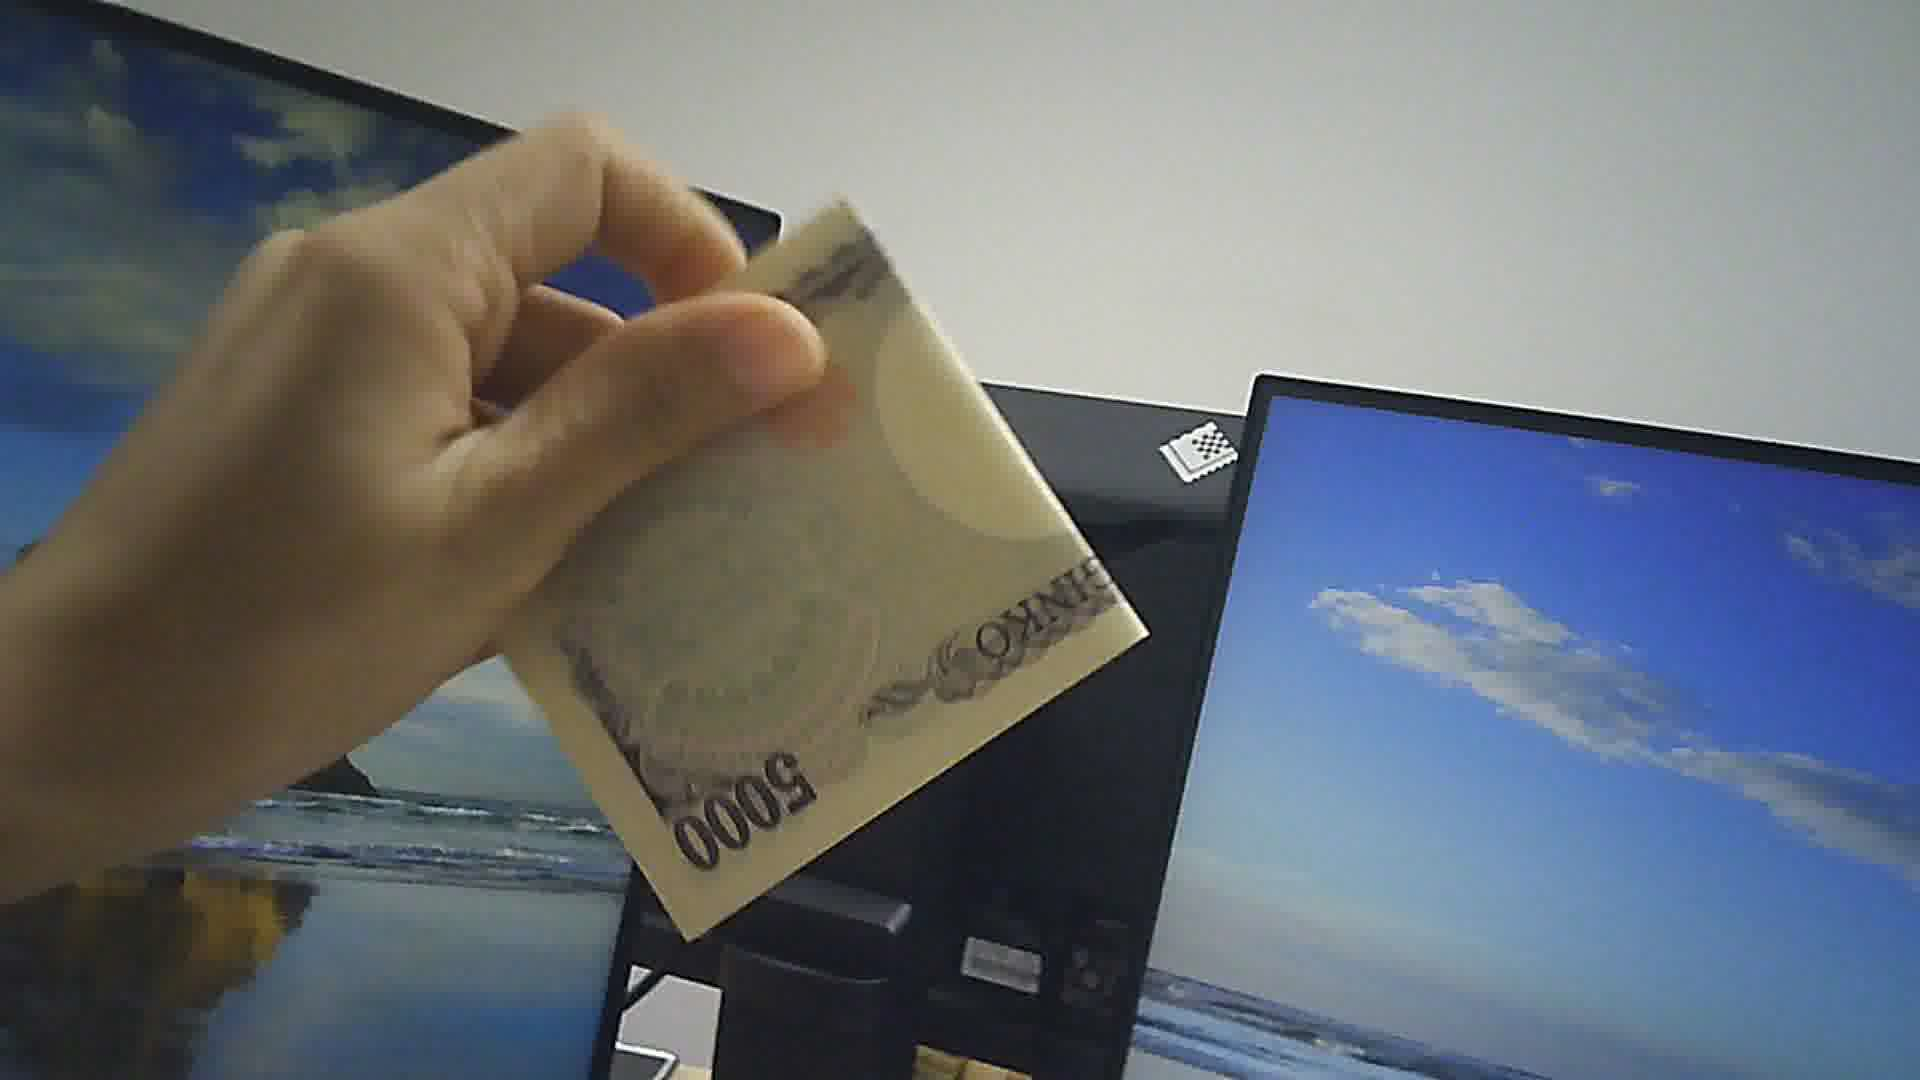5,000 Yen: (462, 182, 1167, 961)
